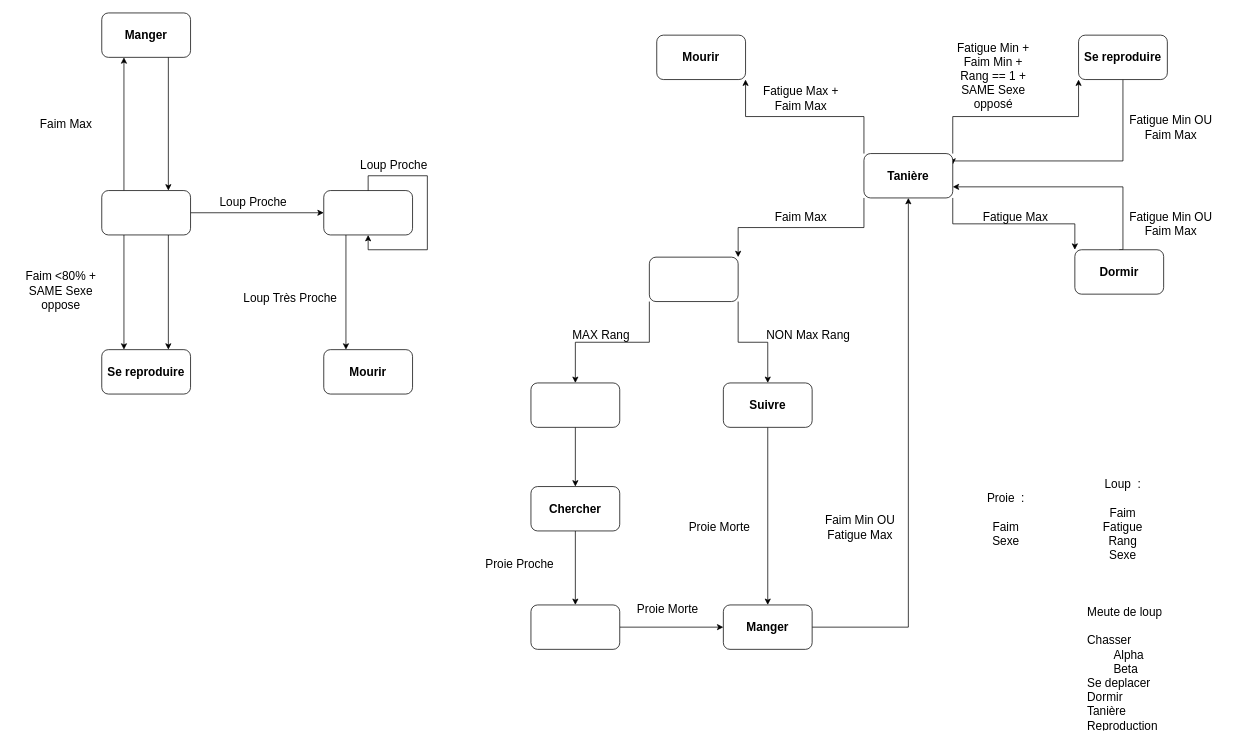
Some shapes in this 1237 by 744 pixel diagram are drawn without their labels. The shapes that lost their labels are listed below. From the top down, each one's centre as x and y in pixels, then its label:
At point 146,212: "Bouger".
At point 368,212: "Éviter".
At point 693,279: "Chasser".
At point 575,404: "Mener".
At point 575,626: "Attaquer".
